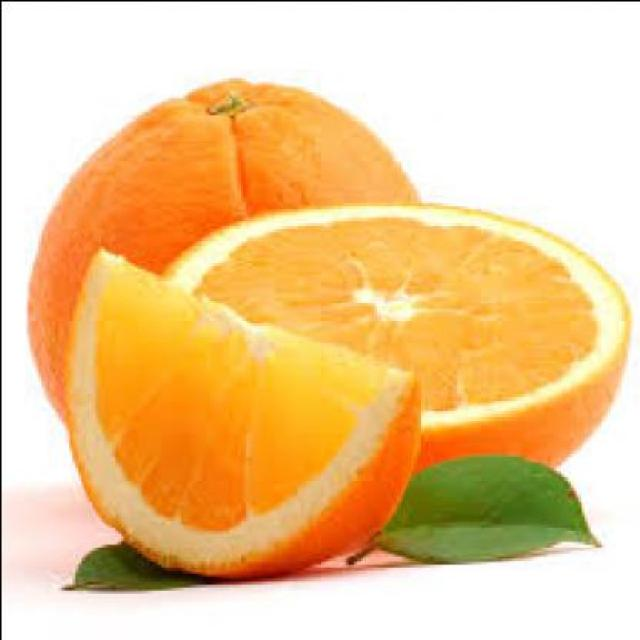BIODEGRADABLE: (29, 80, 416, 412), (172, 205, 629, 467), (68, 251, 418, 578), (375, 456, 595, 563), (65, 542, 206, 589)
